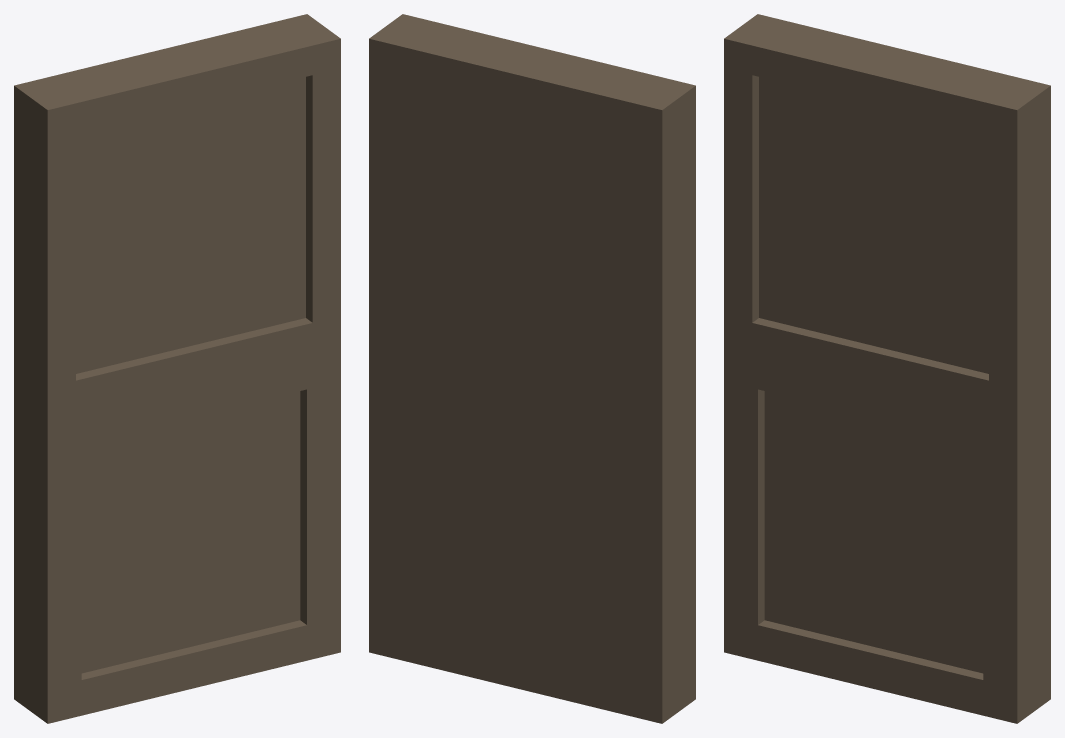
The model's file is kleine deur.fbx.
3 renders of one model, left to right at view 1: azimuth 30°, elevation 25°; view 2: azimuth 150°, elevation 25°; view 3: azimuth 330°, elevation 25°, orthographic.
Visible parts, largest first — view 1: kleine_deur; view 2: kleine_deur; view 3: kleine_deur.
Boxes of the visible parts, x1,y1,x2,y2 form: kleine_deur: (14, 14, 340, 723); kleine_deur: (369, 14, 695, 723); kleine_deur: (724, 14, 1050, 723).
Size of the model in its own units: 100 by 200 by 19.92.
